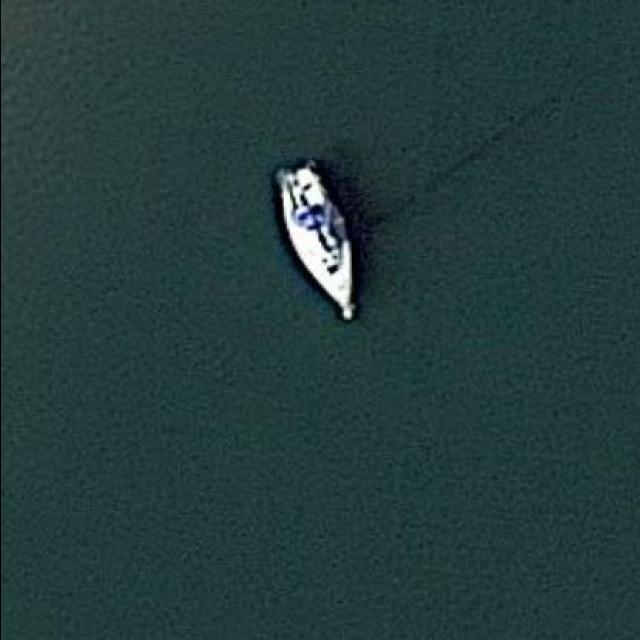ship: (275, 158, 357, 332)
